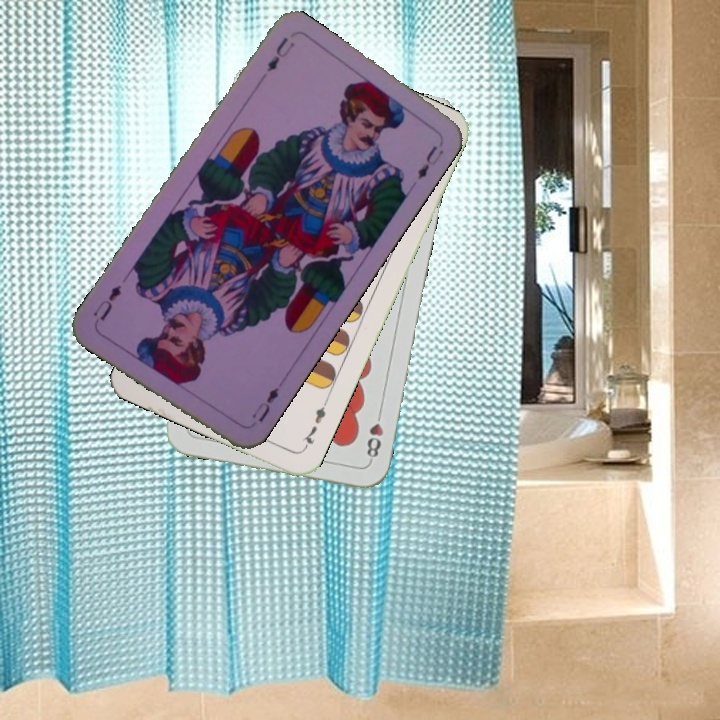E7: (299, 397, 331, 453)
EU: (247, 383, 282, 425), (262, 33, 297, 75)
H8: (362, 406, 386, 464)
